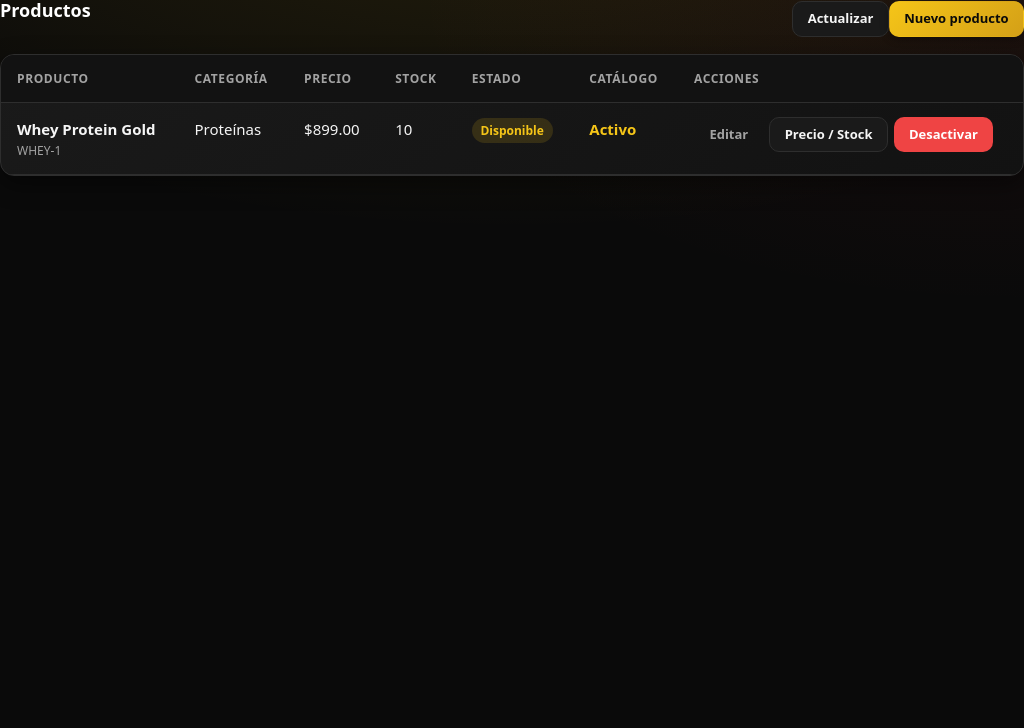
Scenario: AdminProductsPanel › valida campos obligatorios
The width and height of the screenshot is (1024, 728).
Click the button "Nuevo producto" at (956, 19), box x1=889 y1=1 x2=1023 y2=37
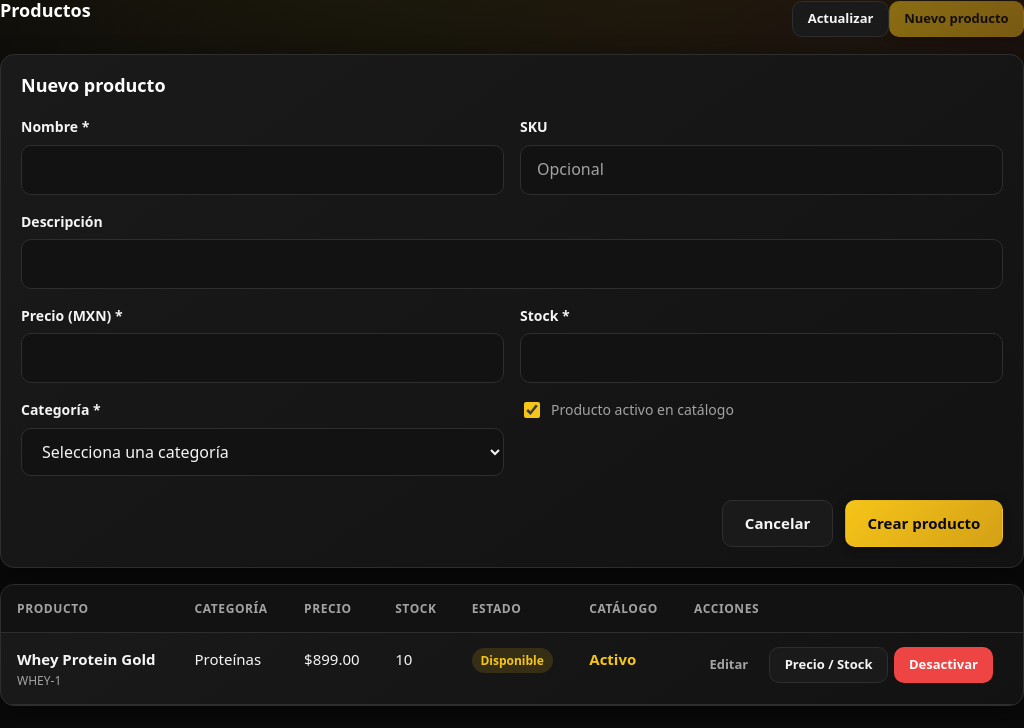
Click the button "Crear producto" at (924, 523), box x1=845 y1=500 x2=1003 y2=547
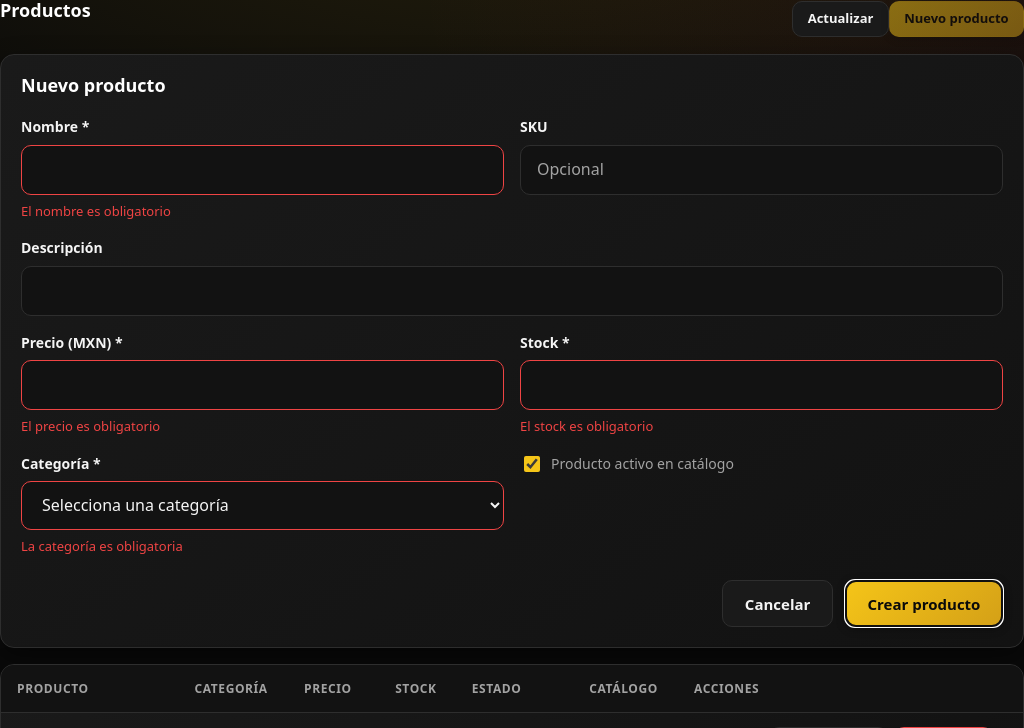
Now the text "El nombre es obligatorio" is shown, box x1=21 y1=202 x2=171 y2=220
